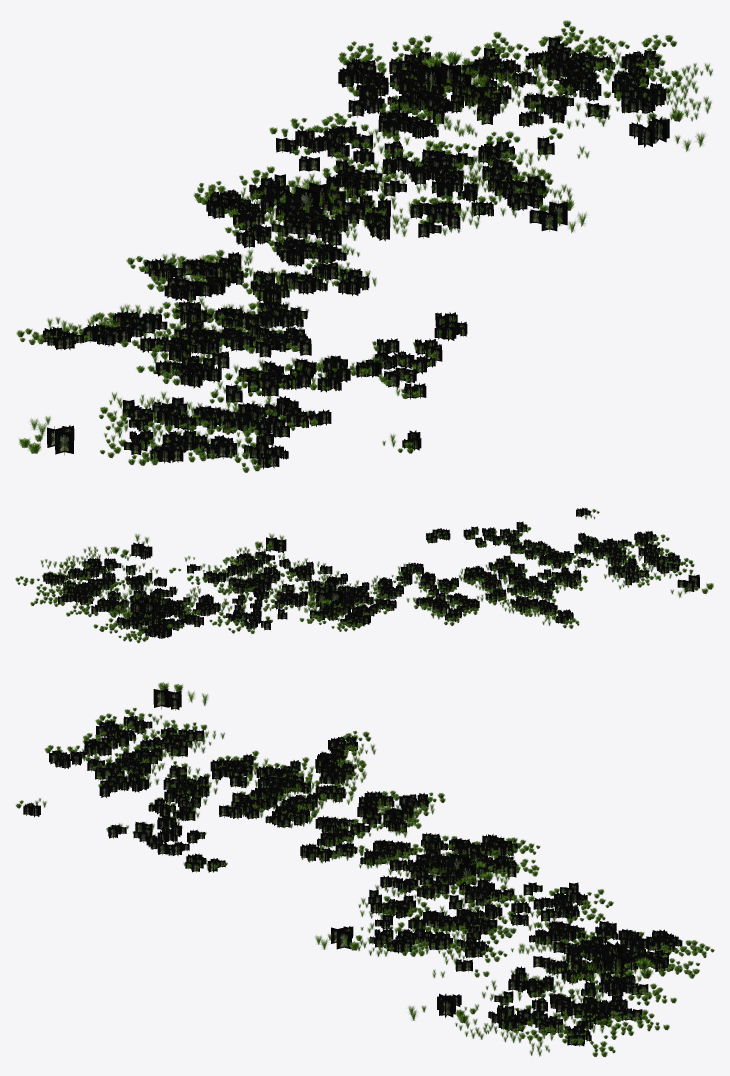
The model's file is Grass.glb.
3 renders of one model, top to bottom at view 1: azimuth 30°, elevation 25°; view 2: azimuth 150°, elevation 25°; view 3: azimuth 270°, elevation 25°, orthographic. The views are drawn at different scales.
Visible parts, largest first — view 1: Grass; view 2: Grass; view 3: Grass.
Part boxes in pixels (x1,y1,x2,y2): Grass: [16, 20, 712, 472]; Grass: [15, 507, 713, 643]; Grass: [16, 682, 714, 1056].
Bounding box in the file's own units: 53.76 × 1.8 × 43.73.
3 materials, 3 textured.
